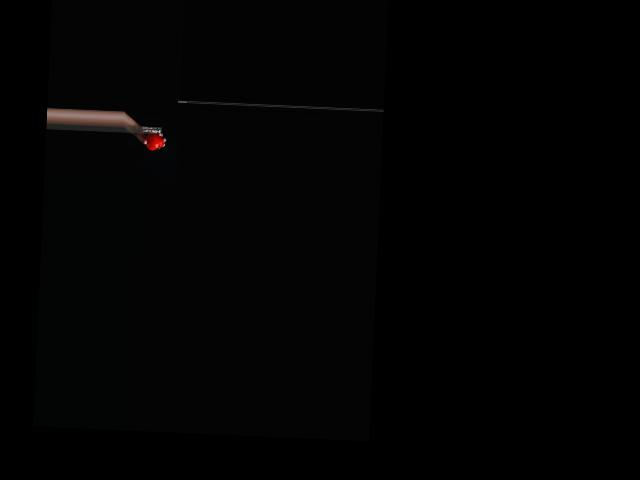tomato: (145, 133, 164, 151)
